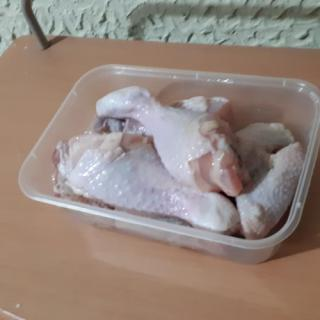Ayam: (53, 84, 308, 242), (51, 130, 243, 242), (95, 84, 251, 201)
